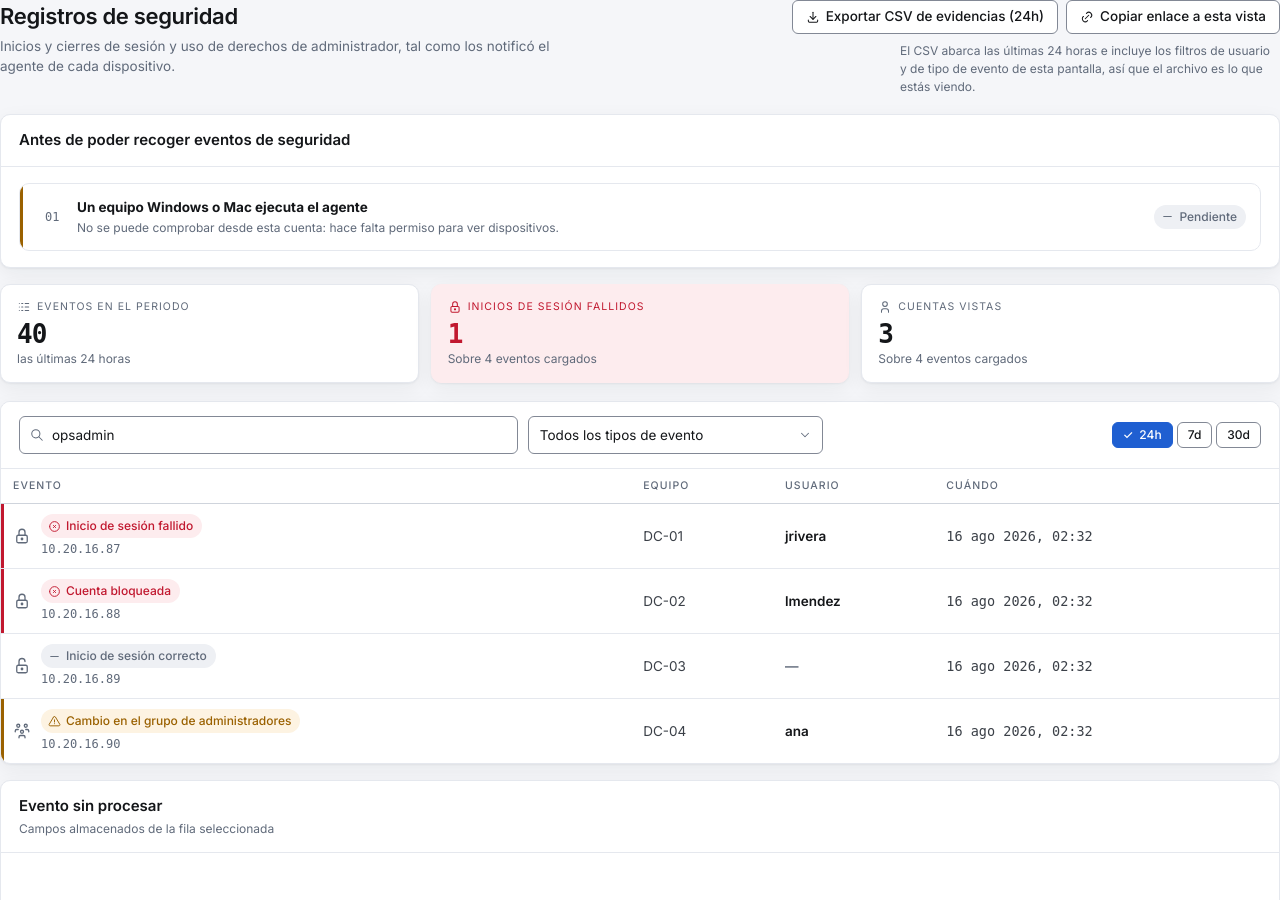
it: the security logs page in Spanish › states what the export covers, and confirms a copied link
Check: the text "DC-01" is shown, box [631,504,773,569]
Check: the text "El CSV abarca las últimas 24 horas e incluye los filtros de usuario y de tipo de evento de esta pantalla, así que el arc" is shown, box [900,43,1270,94]
Click the button "Copiar enlace a esta vista" at {"x": 1173, "y": 17}, box [1066,0,1279,34]
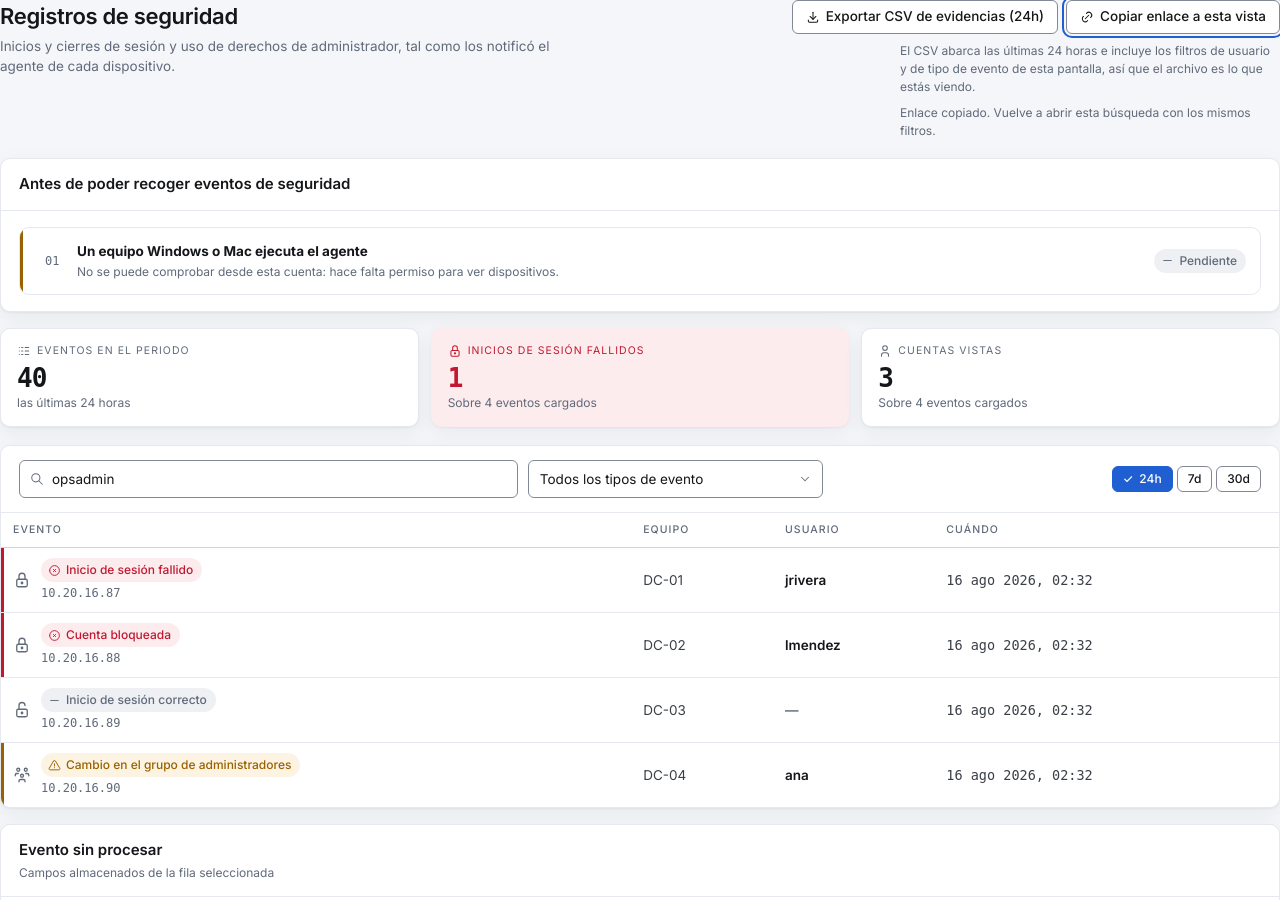
Check: the message reads "Enlace copiado. Vuelve a abrir esta búsqueda con los mismos filtros.", box [900,105,1251,138]
